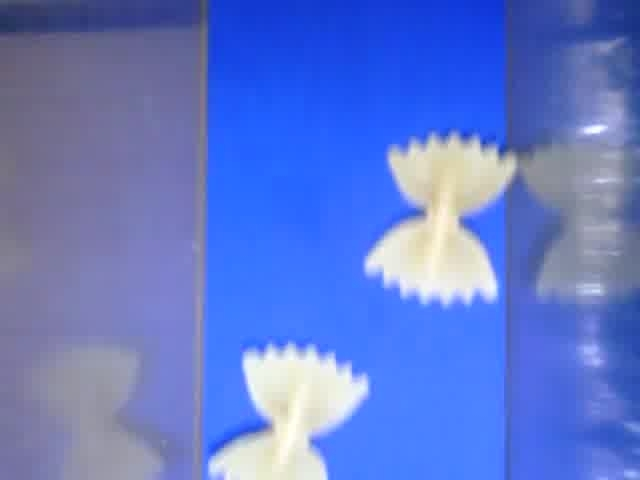farfalle: (362, 131, 517, 305), (208, 341, 370, 480)
